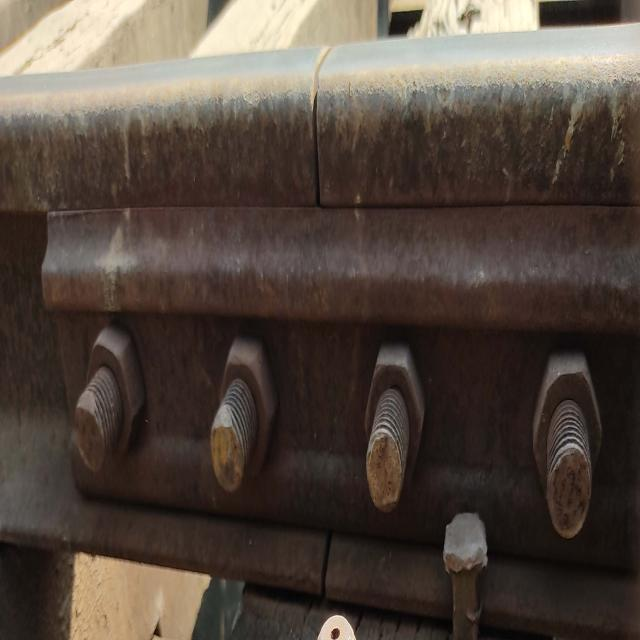Good Joint: (42, 207, 640, 570)
